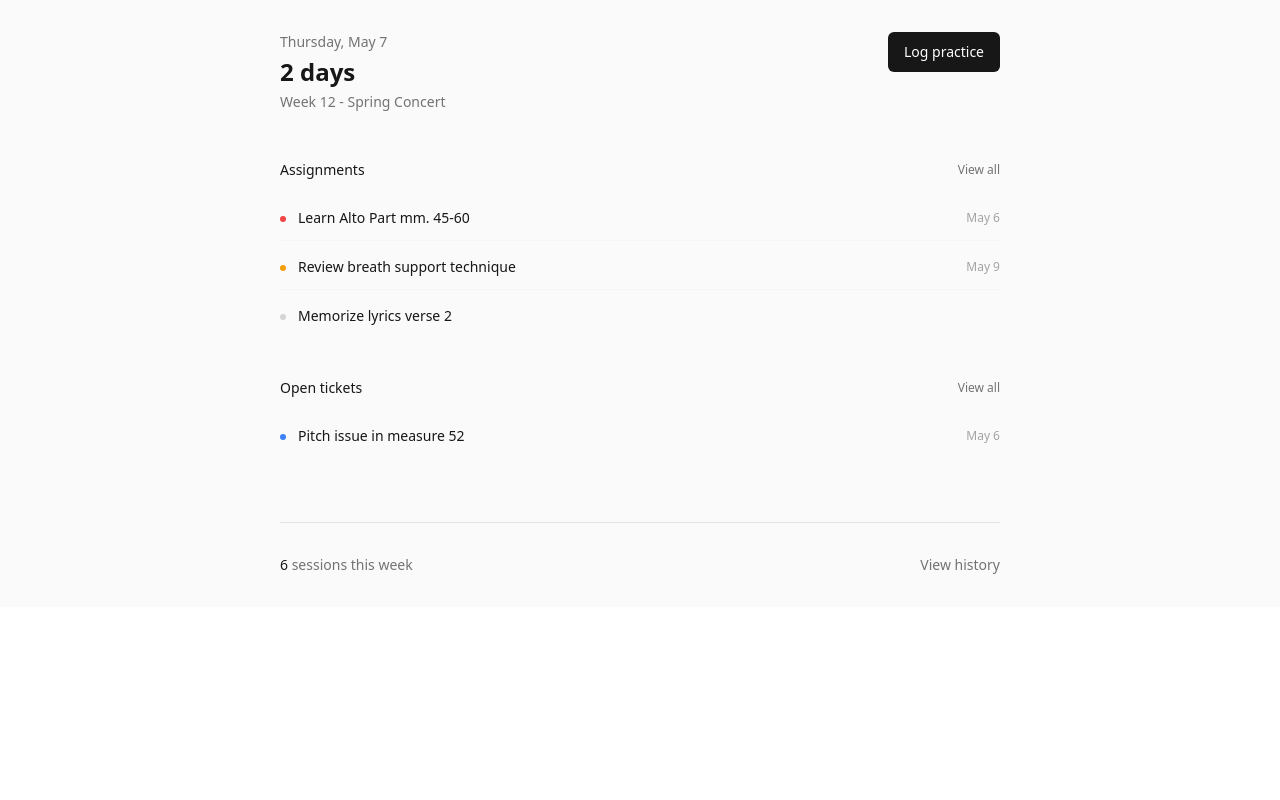
Test: DashboardPage › Log Practice Modal › submits practice log successfully
This screenshot has width=1280, height=800.
Click the button "Log practice" at (944, 52), box [888, 32, 1000, 72]
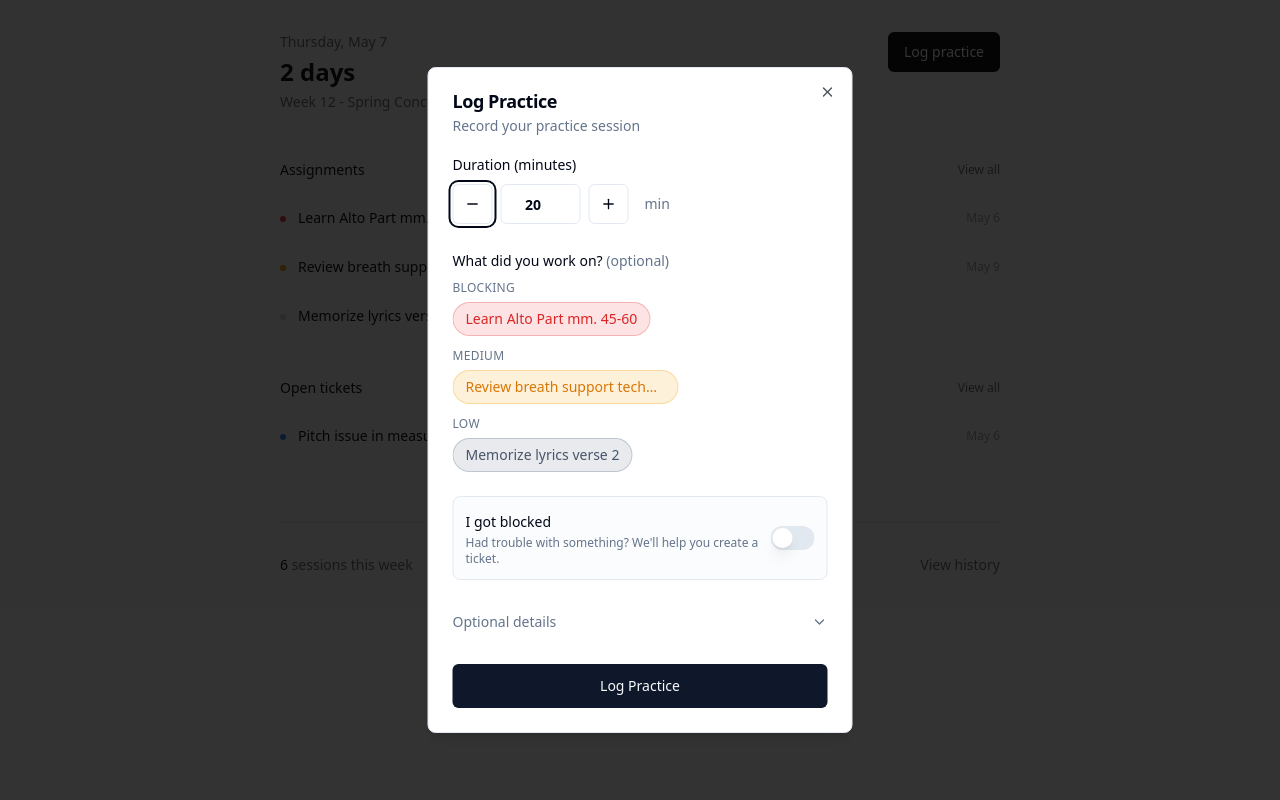
Expected: the text "Duration (minutes)" is shown, [452, 155, 576, 174]
Click the button "Log Practice" at (640, 686), box [452, 664, 828, 708]
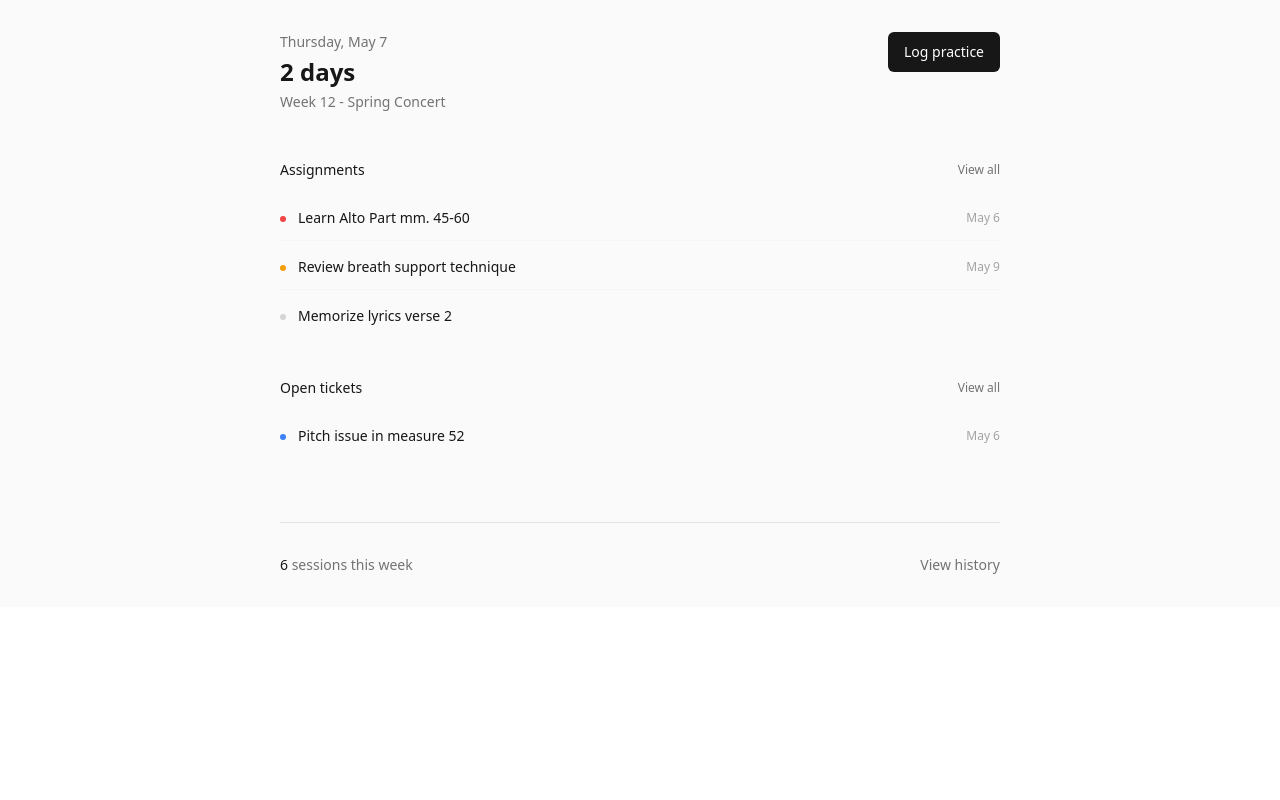
Expected: the text "Duration (minutes)" is gone
